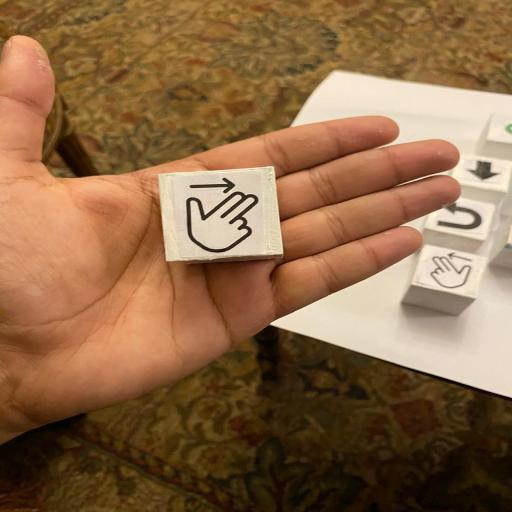Down: (457, 155, 512, 189)
LeftSwipe: (405, 241, 491, 314)
RightSwipe: (156, 164, 288, 264)
Undo: (424, 196, 497, 241)
